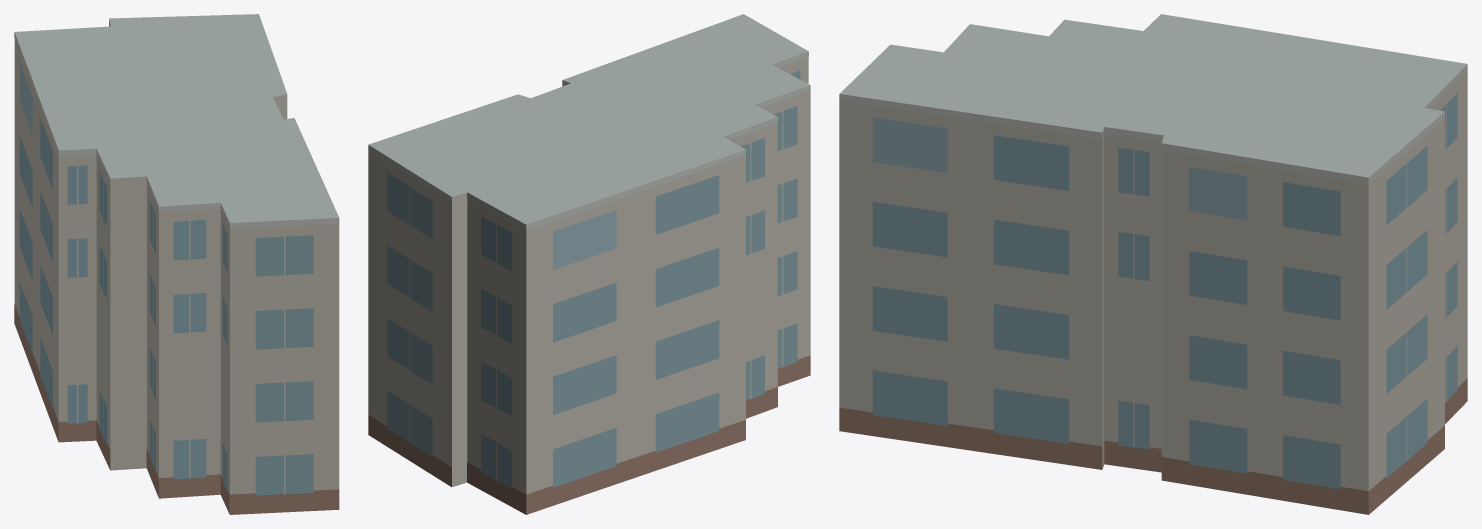
Rendered from survey-upis-32672133.glb.
3 renders of one model, left to right at view 1: azimuth 30°, elevation 25°; view 2: azimuth 150°, elevation 25°; view 3: azimuth 270°, elevation 25°, orthographic. The views are drawn at different scales.
Visible parts, largest first — view 1: survey-upis-32672133.tmp; view 2: survey-upis-32672133.tmp; view 3: survey-upis-32672133.tmp.
Boxes of the visible parts, box(x1,y1,x2,y2) form: survey-upis-32672133.tmp: box(14, 14, 339, 514); survey-upis-32672133.tmp: box(368, 14, 810, 514); survey-upis-32672133.tmp: box(839, 14, 1467, 514).
Bounding box in the file's own units: 12.7 × 12.2 × 20.6.
